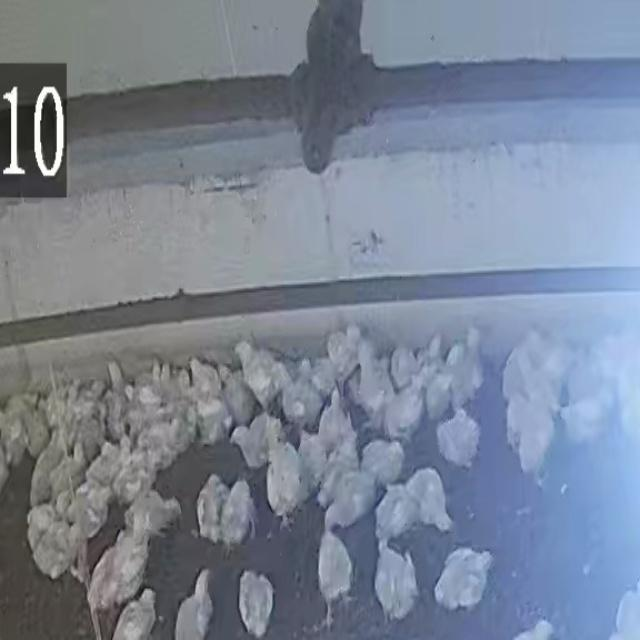chicken: (84, 530, 150, 612), (374, 538, 420, 622), (434, 551, 493, 609), (32, 521, 82, 584), (450, 324, 485, 413), (355, 339, 389, 429), (517, 405, 554, 483), (231, 415, 284, 468), (323, 478, 378, 529), (28, 431, 66, 504), (316, 437, 358, 503), (387, 374, 426, 445), (177, 568, 215, 640), (412, 468, 454, 533), (275, 362, 317, 427), (238, 342, 282, 404), (268, 440, 302, 520), (318, 531, 353, 607), (112, 586, 160, 640), (427, 348, 464, 418), (372, 483, 414, 542), (123, 494, 184, 534), (439, 409, 480, 468), (238, 569, 272, 638), (217, 362, 254, 424), (393, 341, 437, 391), (197, 476, 228, 546), (317, 391, 349, 456), (225, 480, 256, 544), (189, 397, 230, 445), (362, 439, 403, 485), (78, 482, 116, 530), (306, 357, 349, 398), (295, 428, 323, 488), (330, 323, 359, 371), (189, 355, 219, 394)
